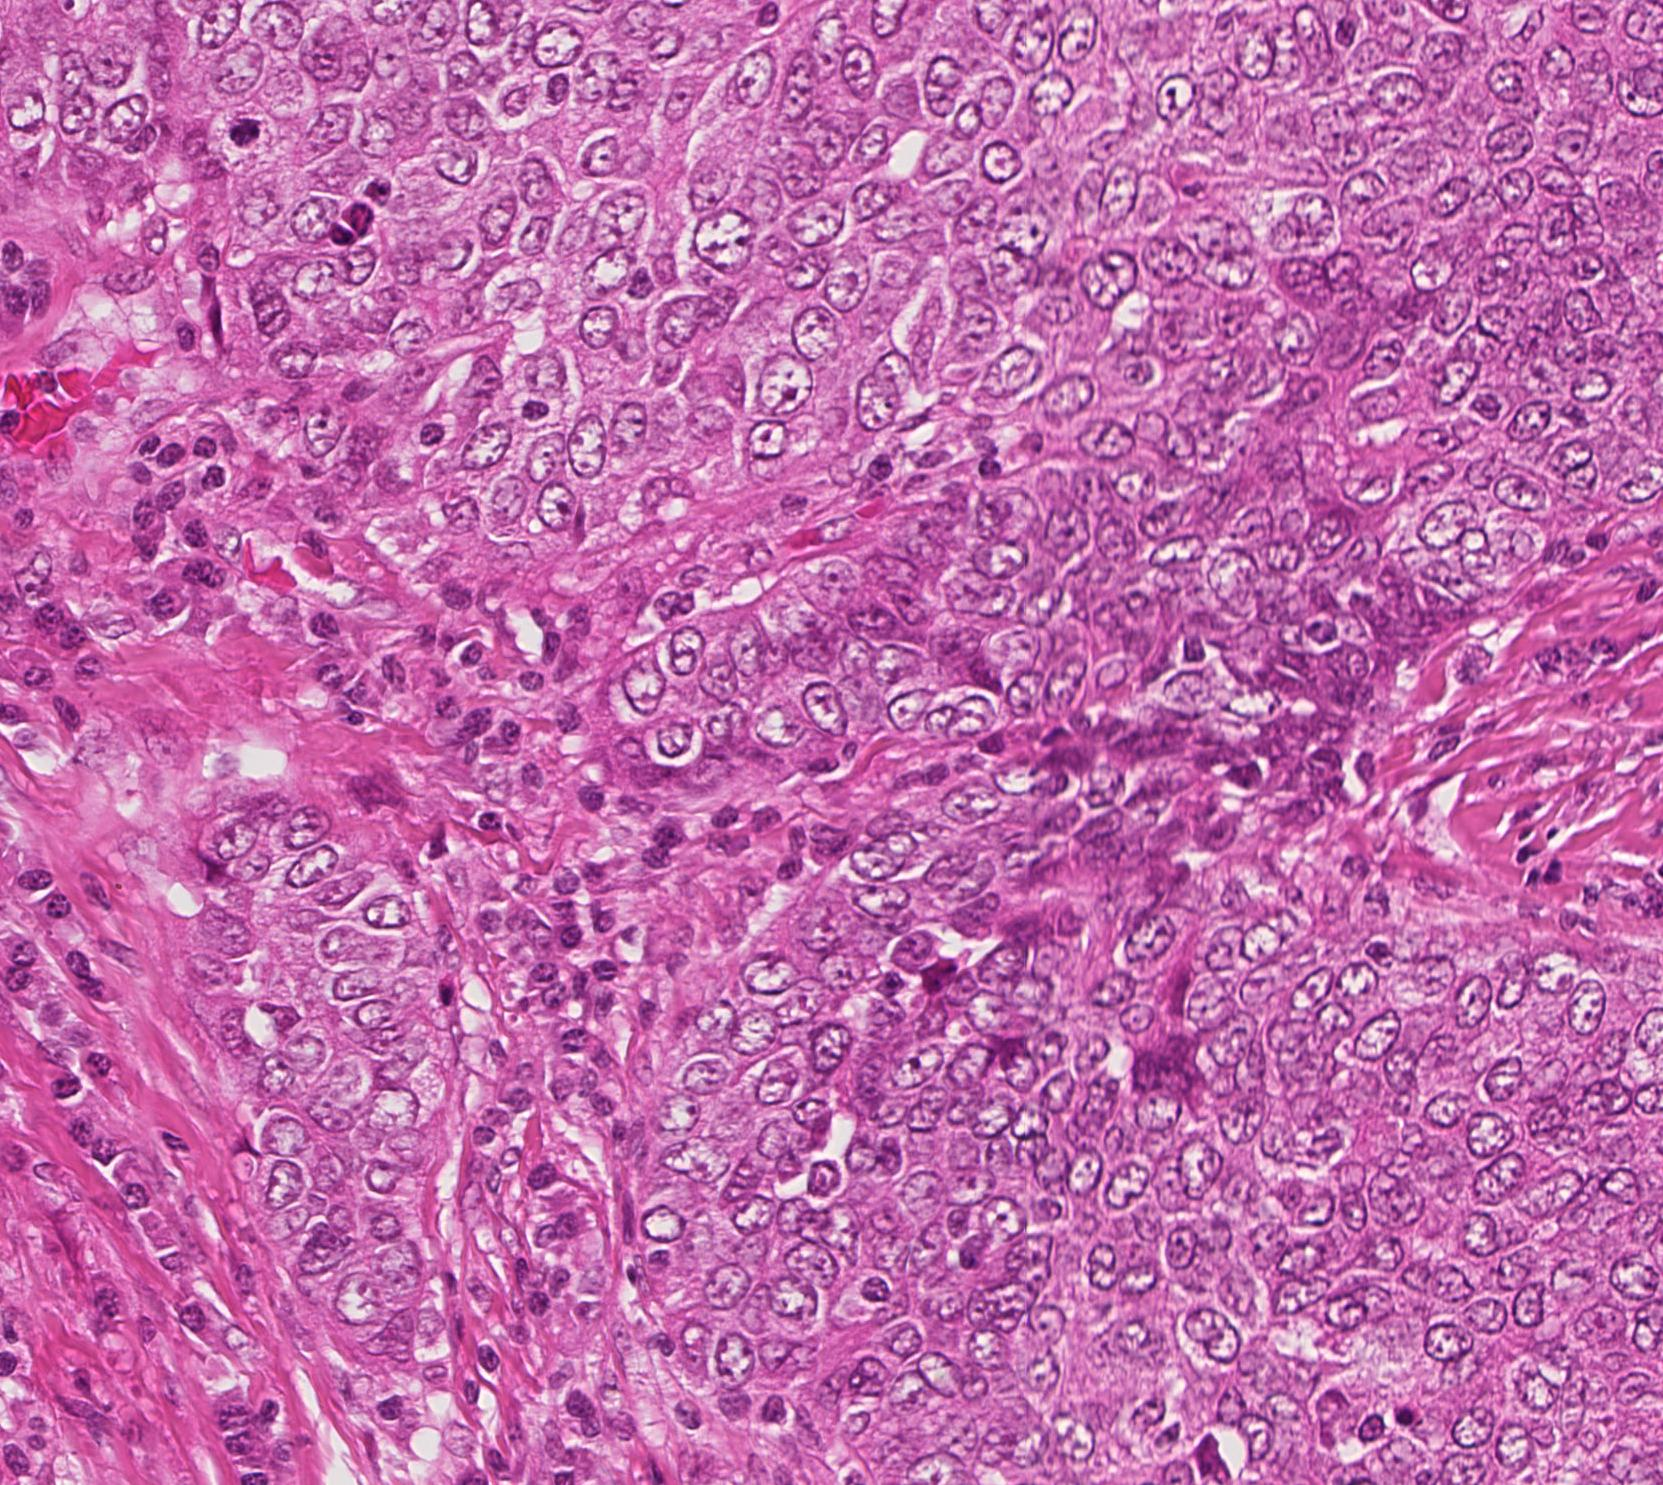mitosis: (214, 108, 274, 168)
